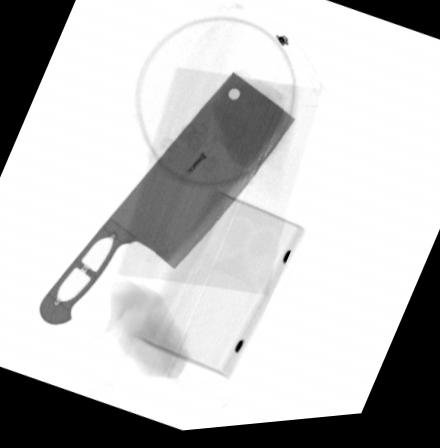Knife: (38, 74, 296, 326)
